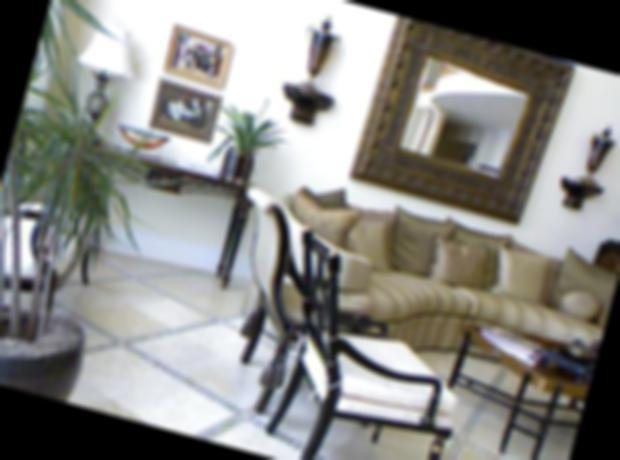Matera: (0, 0, 187, 393)
